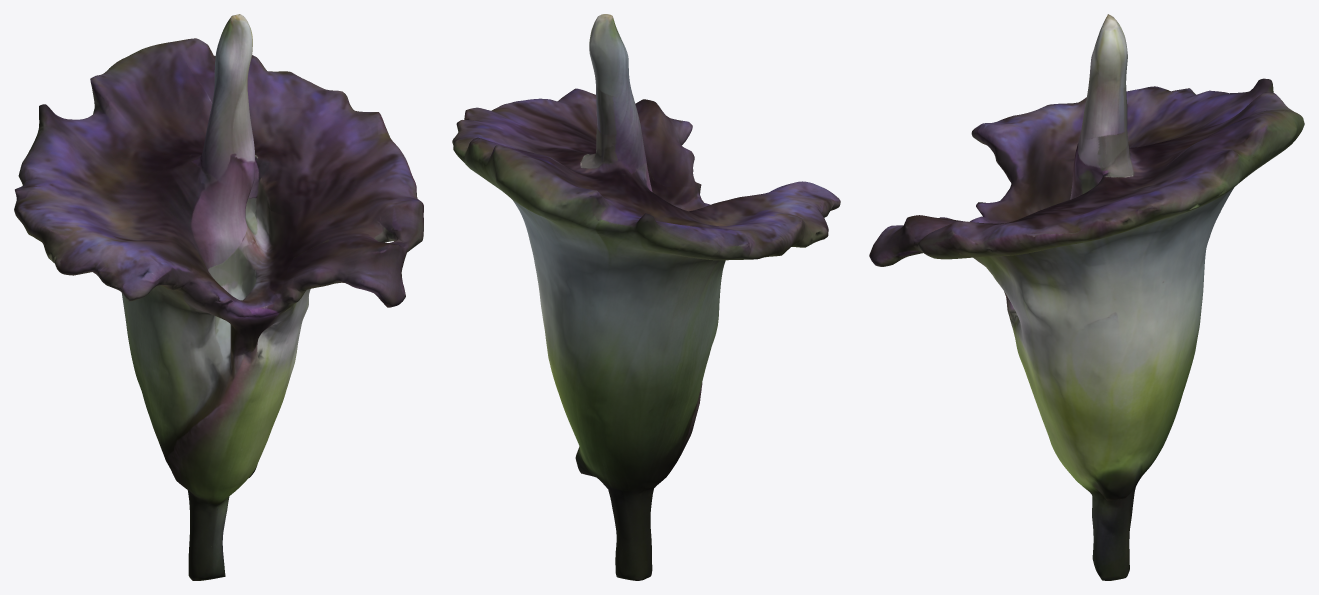
File: bangkai_0610215525.fbx
The picture shows the model from 3 angles, left to right: view 1: azimuth 30°, elevation 25°; view 2: azimuth 150°, elevation 25°; view 3: azimuth 270°, elevation 25°; orthographic projection. The views are drawn at different scales.
Visible parts, largest first — view 1: Mesh_0; view 2: Mesh_0; view 3: Mesh_0.
Part boxes in pixels (x1=…): Mesh_0: x1=14, y1=14, x2=423, y2=580; Mesh_0: x1=452, y1=14, x2=840, y2=580; Mesh_0: x1=869, y1=14, x2=1304, y2=580.
Bounding box in the file's own units: 77.27 × 120 × 82.68.
Materials: 1 (1 with a texture image).
